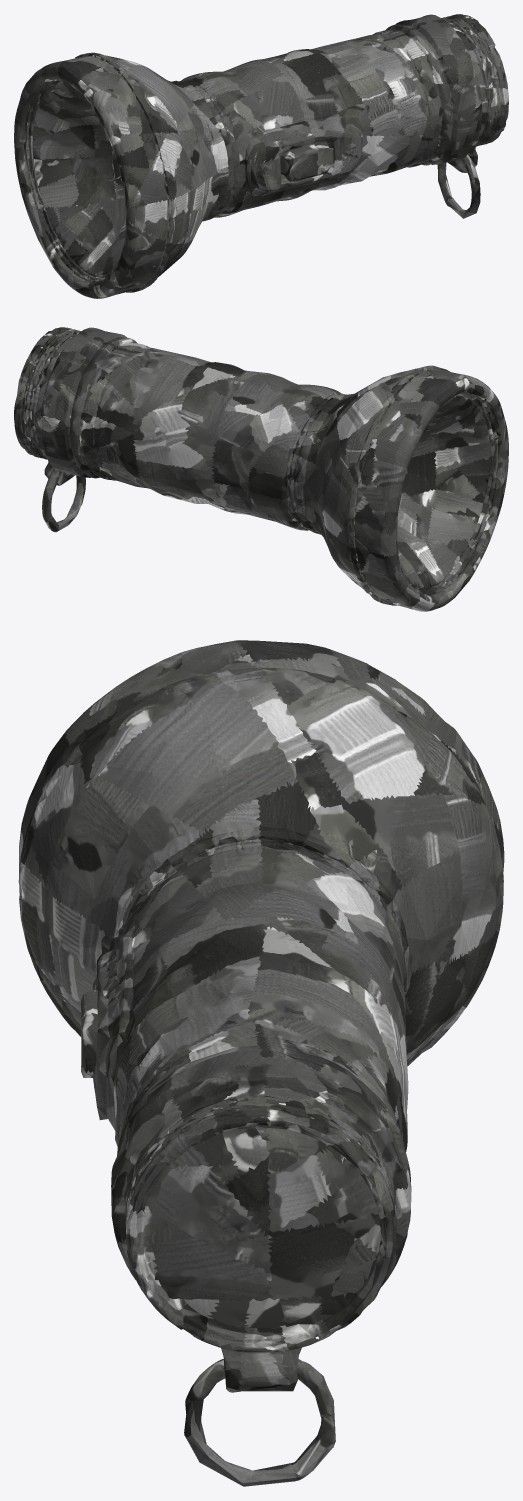
The model's file is Flash_Reduce.fbx.
3 views of the same model, one above another, from view 1: azimuth 30°, elevation 25°; view 2: azimuth 150°, elevation 25°; view 3: azimuth 270°, elevation 25° (orthographic). The views are drawn at different scales.
Visible parts, largest first — view 1: Mesh_0; view 2: Mesh_0; view 3: Mesh_0.
Boxes of the visible parts, x1,y1,x2,y2 form: Mesh_0: (14, 14, 508, 298); Mesh_0: (14, 327, 508, 611); Mesh_0: (18, 640, 504, 1486).
Size of the model in its own units: 190 by 107 by 98.55.
